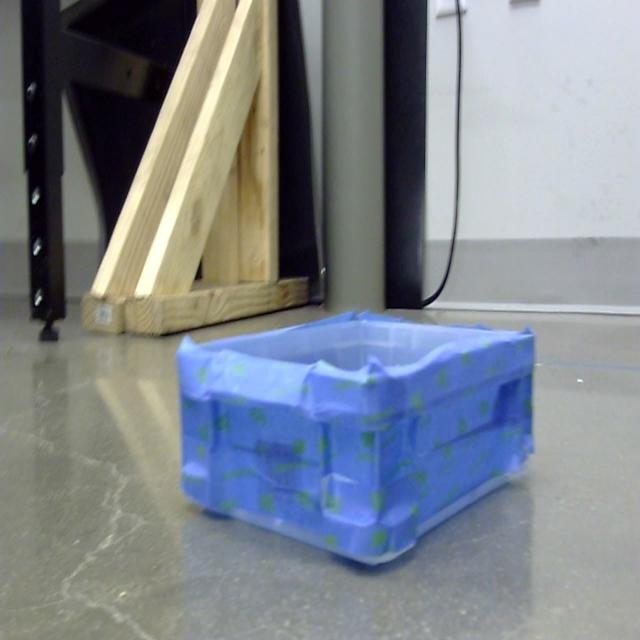bucket: (174, 311, 536, 571)
